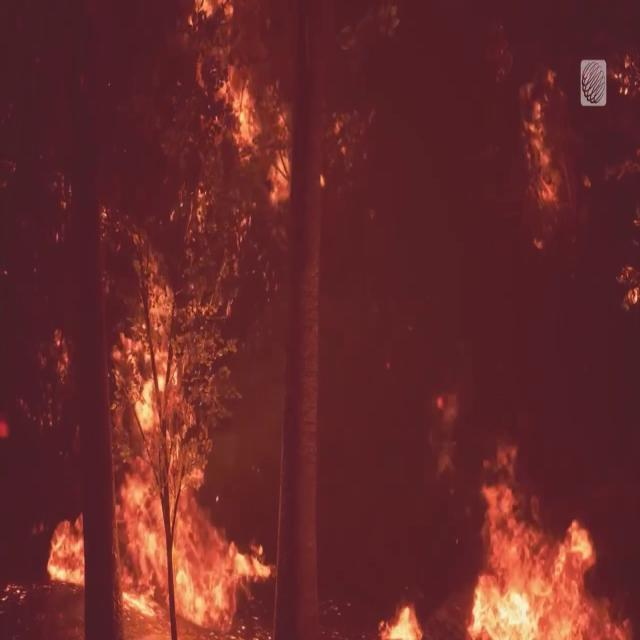Fire: (104, 252, 274, 633), (453, 444, 634, 638), (174, 0, 292, 210), (123, 509, 274, 635), (522, 63, 560, 215), (380, 590, 428, 640)
